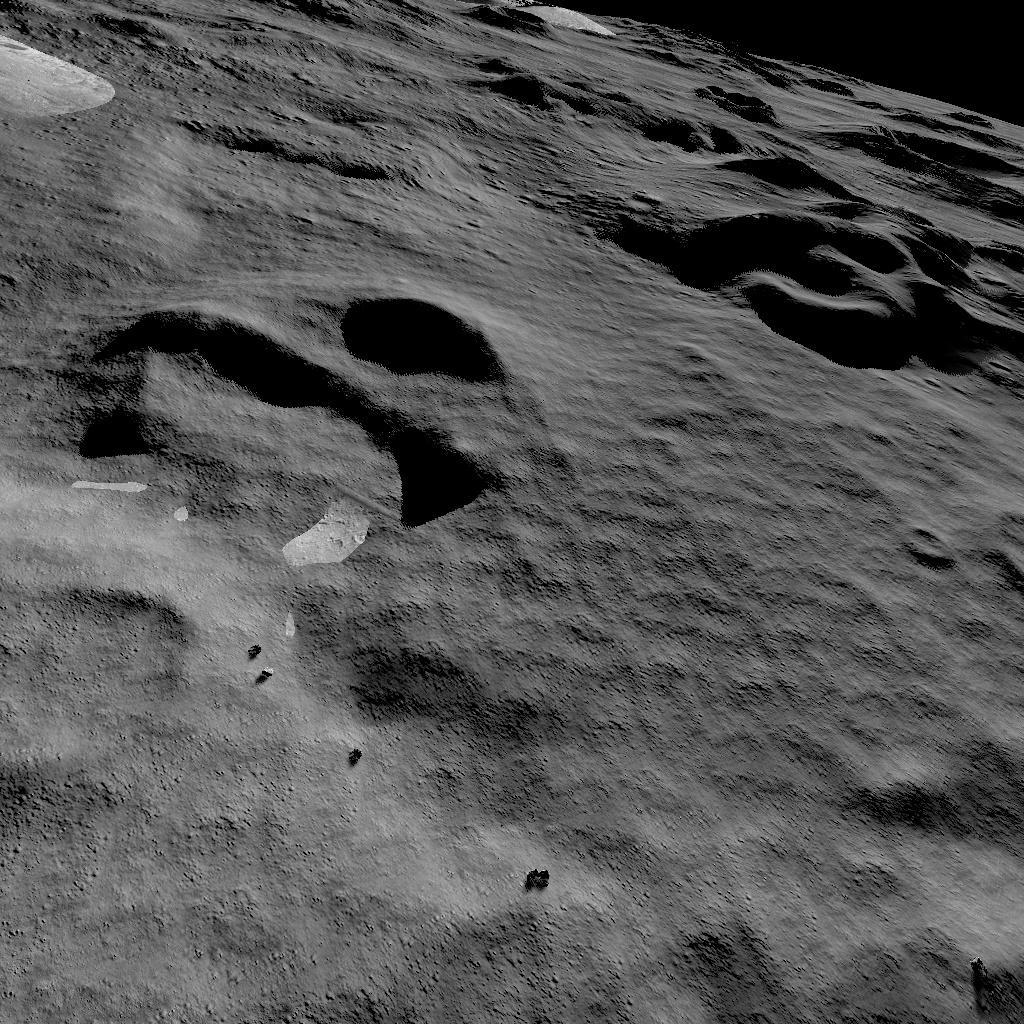Boulders: (0, 0, 141, 130)
Crater: (599, 46, 1024, 384), (89, 263, 537, 536), (0, 560, 225, 772), (889, 496, 965, 574)
Plan surface: (566, 400, 869, 1024), (4, 790, 507, 1024)
